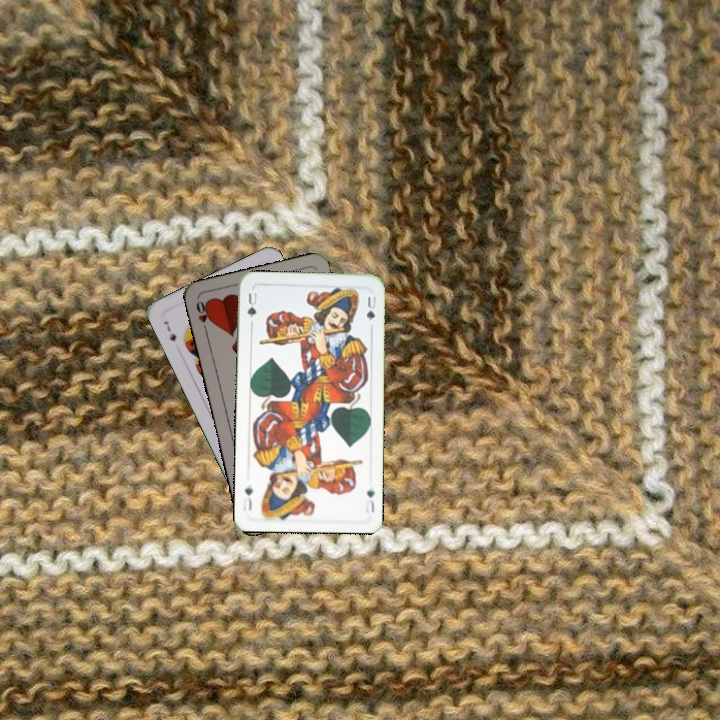GU: (243, 289, 259, 326), (361, 485, 377, 515)
HO: (192, 296, 213, 336)
S7: (159, 317, 179, 344)
